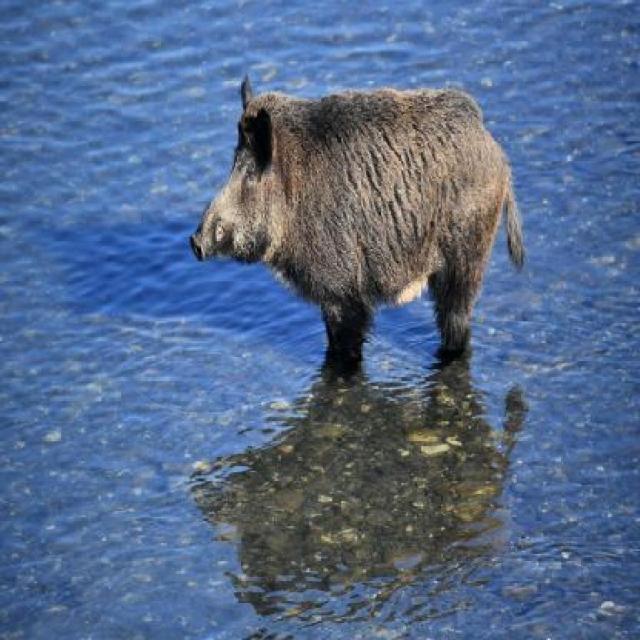wildboar: (188, 69, 530, 386)
